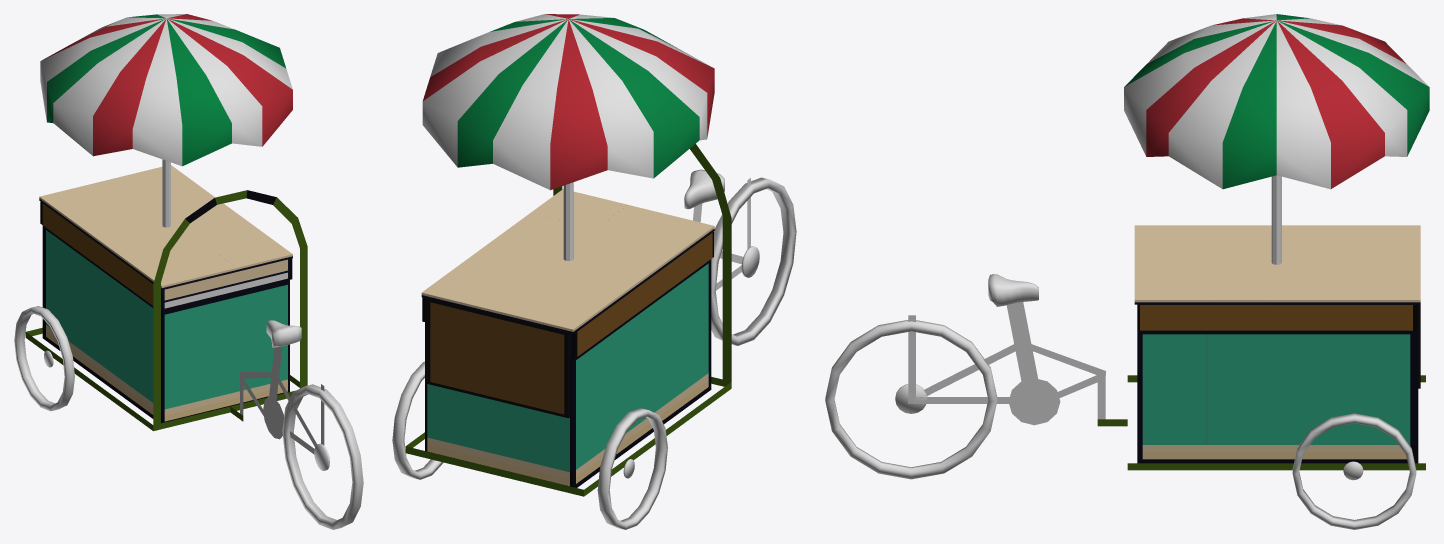
The model's file is Bike.fbx.
3 views of the same model, side by side, from view 1: azimuth 30°, elevation 25°; view 2: azimuth 150°, elevation 25°; view 3: azimuth 270°, elevation 25° (orthographic). The views are drawn at different scales.
Visible parts, largest first — view 1: Cube.001, Cone, Cube.003, Plane.001, Circle, Cube.002, Circle.003, Cube.005, Plane.003, Cube.004, Cube, Cylinder (+1 smaller); view 2: Cone, Cube.001, Cube.006, Cube.003, Circle.003, Plane.001, Circle, Cube.002, Cube.004, Cube.005, Cube, Cylinder (+1 smaller); view 3: Cube.001, Cone, Cube.003, Cube.002, Circle, Plane.003, Circle.003, Plane.001, Cube.004, Cube.005, Circle.002, Cube (+1 smaller).
Part boxes in pixels (bbox=[...]): Cube.001: bbox=[39, 165, 292, 423]; Cone: bbox=[40, 14, 292, 166]; Cube.003: bbox=[44, 168, 231, 244]; Plane.001: bbox=[25, 190, 307, 431]; Circle: bbox=[282, 384, 363, 529]; Cube.002: bbox=[40, 201, 292, 311]; Circle.003: bbox=[14, 306, 74, 411]; Cube.005: bbox=[208, 234, 288, 271]; Plane.003: bbox=[239, 346, 324, 454]; Cube.004: bbox=[179, 212, 261, 244]; Cube: bbox=[266, 320, 301, 347]; Cylinder: bbox=[162, 159, 170, 227]; Cone: bbox=[422, 14, 714, 190]; Cube.001: bbox=[421, 189, 714, 487]; Cube.006: bbox=[426, 298, 569, 418]; Cube.003: bbox=[427, 241, 643, 330]; Circle.003: bbox=[392, 361, 667, 529]; Plane.001: bbox=[405, 144, 731, 496]; Circle: bbox=[711, 177, 796, 345]; Cube.002: bbox=[422, 231, 713, 358]; Cube.004: bbox=[496, 215, 591, 253]; Cube.005: bbox=[534, 191, 627, 229]; Cube: bbox=[684, 169, 724, 209]; Cylinder: bbox=[563, 182, 573, 260]; Cube.001: bbox=[1134, 225, 1420, 463]; Cone: bbox=[1124, 14, 1429, 189]; Cube.003: bbox=[1277, 225, 1410, 304]; Cube.002: bbox=[1137, 304, 1418, 330]; Circle: bbox=[825, 320, 997, 479]; Plane.003: bbox=[908, 302, 1105, 403]; Circle.003: bbox=[1292, 413, 1416, 529]; Plane.001: bbox=[1097, 375, 1425, 470]; Cube.004: bbox=[1207, 268, 1269, 304]; Cube.005: bbox=[1134, 268, 1202, 297]; Circle.002: bbox=[1008, 378, 1060, 425]; Cube: bbox=[988, 274, 1038, 306].
Bounding box in the file's own units: 127 × 209 × 251.
